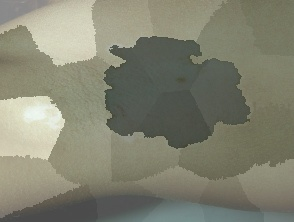vitiligo: (95, 11, 262, 152)
